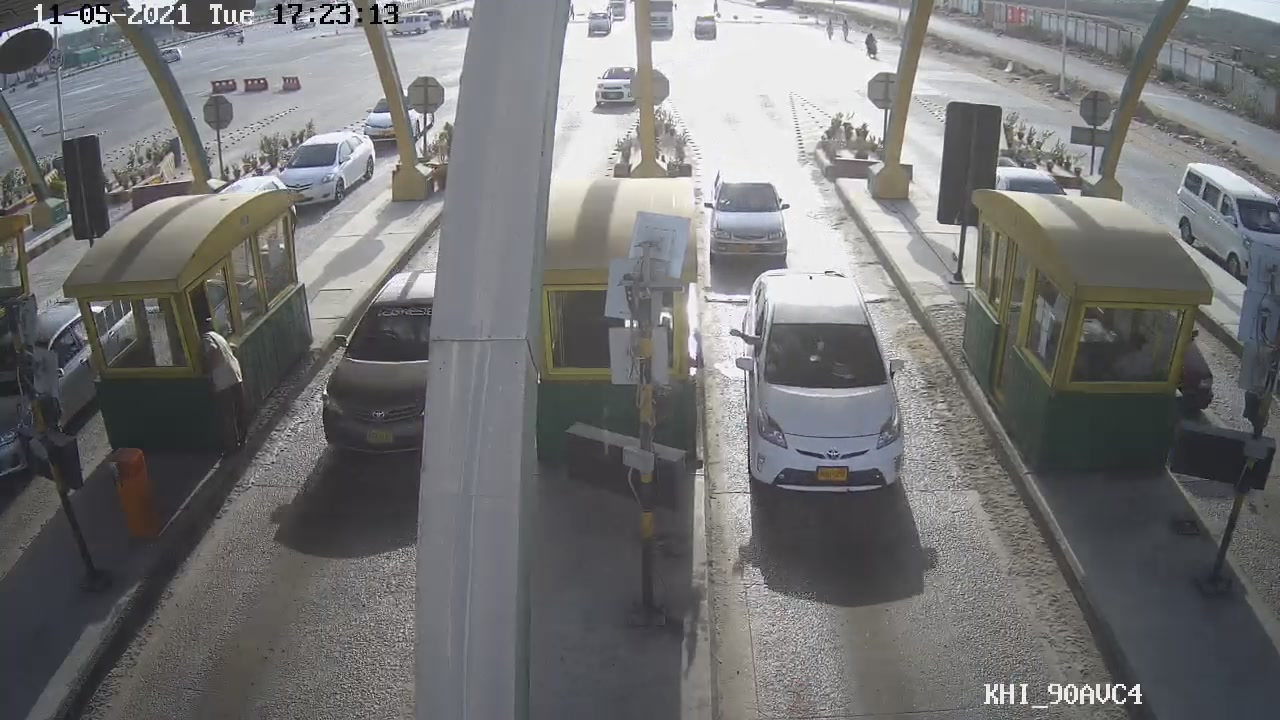F1: (732, 264, 920, 509)
